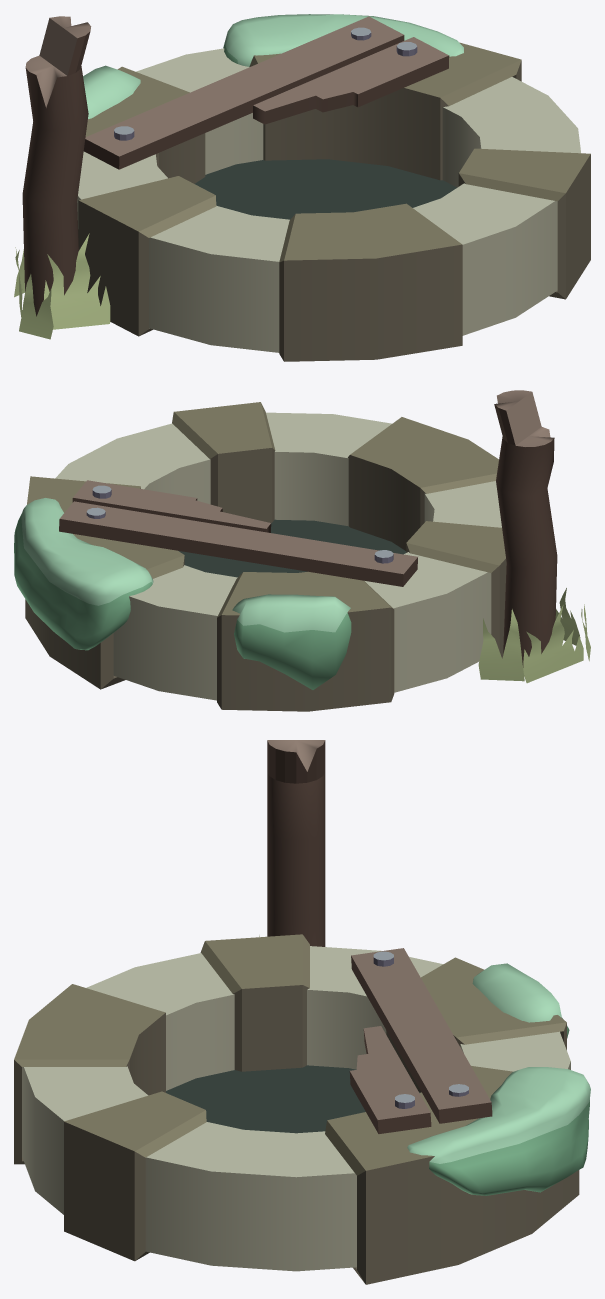
The model's file is OldWell.fbx.
3 renders of one model, top to bottom at view 1: azimuth 30°, elevation 25°; view 2: azimuth 150°, elevation 25°; view 3: azimuth 270°, elevation 25°, orthographic. The views are drawn at different scales.
Parts seen in each view (by area): view 1: OldWell; view 2: OldWell; view 3: OldWell.
Boxes of the visible parts, left/top/right/bottom form: OldWell: left=14, top=14, right=590, bottom=361; OldWell: left=14, top=390, right=590, bottom=711; OldWell: left=14, top=740, right=590, bottom=1284.
Size of the model in its own units: 199 by 98.91 by 174.
